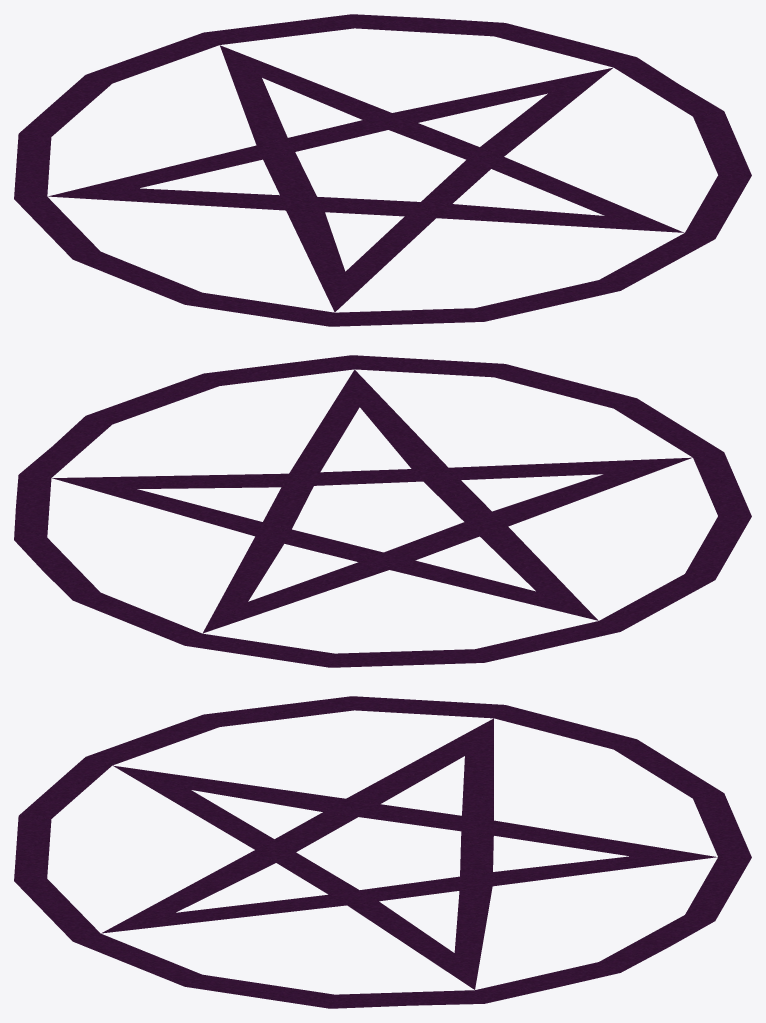
The model's file is KM_VOB_PENTAGRAM_02.glb.
3 renders of one model, top to bottom at view 1: azimuth 30°, elevation 25°; view 2: azimuth 150°, elevation 25°; view 3: azimuth 270°, elevation 25°, orthographic.
Parts seen in each view (by area): view 1: Mesh; view 2: Mesh; view 3: Mesh.
Boxes of the visible parts, bbox=[...] form: Mesh: bbox=[14, 14, 751, 326]; Mesh: bbox=[14, 355, 751, 667]; Mesh: bbox=[14, 696, 751, 1008].
Bounding box in the file's own units: 2.33 × 0 × 2.32.
1 material, 1 textured.
